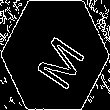M_NW: (25, 22, 85, 88)
